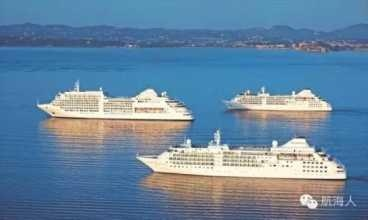youlun: (140, 135, 348, 180), (37, 85, 195, 124), (227, 85, 336, 114)
